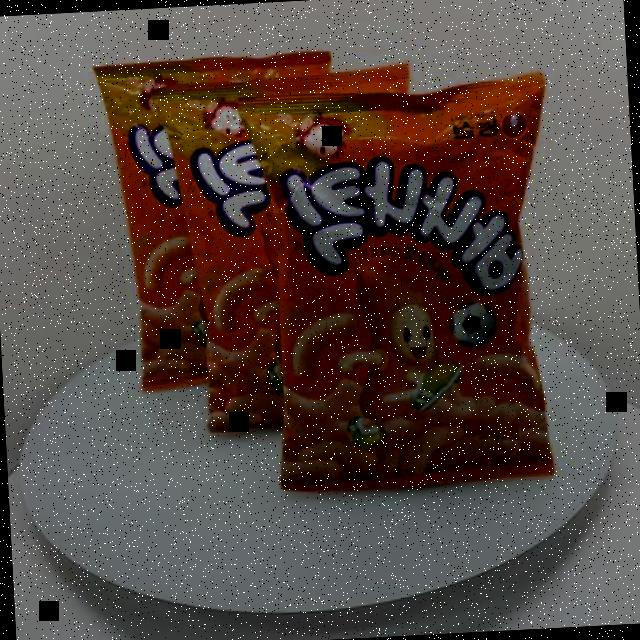snack_bag: (79, 26, 580, 522)
